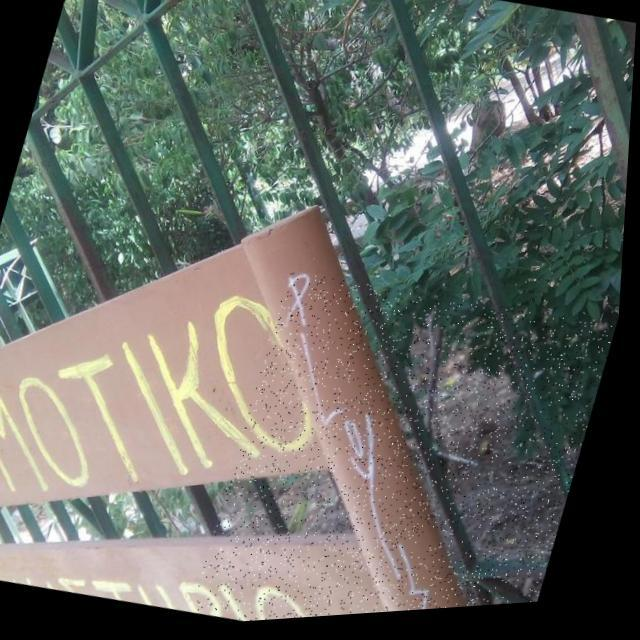-: (197, 258, 624, 628)
